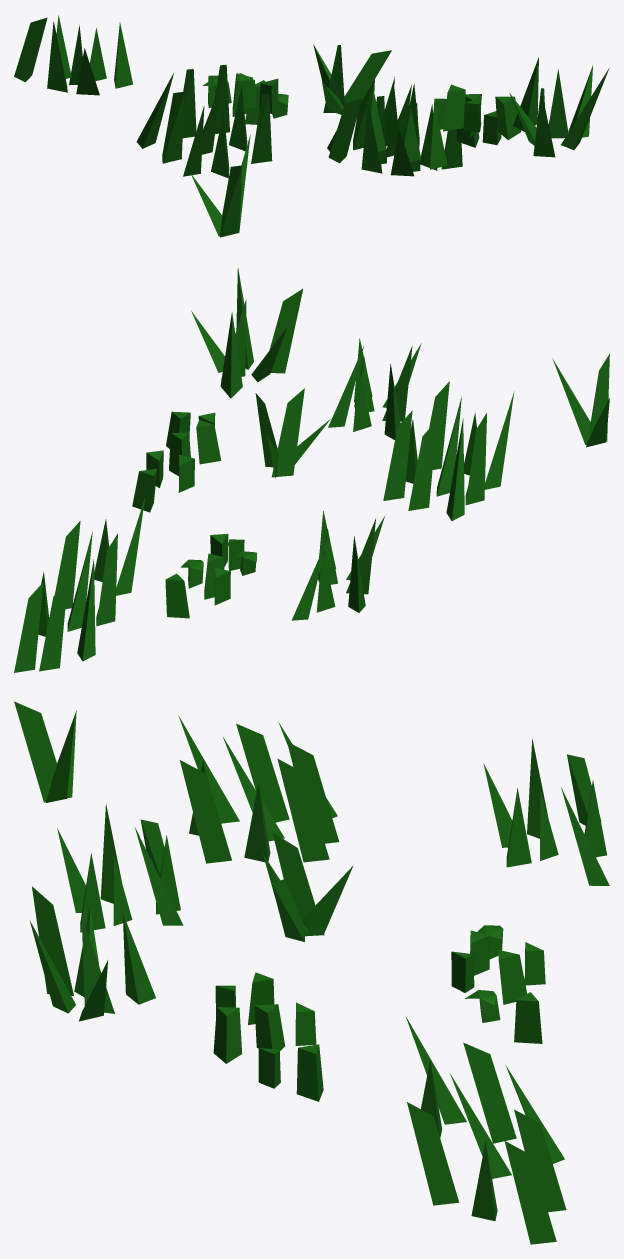
The model's file is GrassCronerDownWards.obj.
3 views of the same model, one above another, from view 1: azimuth 30°, elevation 25°; view 2: azimuth 150°, elevation 25°; view 3: azimuth 270°, elevation 25° (orthographic). The views are drawn at different scales.
Parts seen in each view (by area): view 1: GrassBunch1.001_Circle.000; view 2: GrassBunch1.001_Circle.000; view 3: GrassBunch1.001_Circle.000.
Boxes of the visible parts, x1,y1,x2,y2 form: GrassBunch1.001_Circle.000: (14,15,609,237); GrassBunch1.001_Circle.000: (14,268,609,672); GrassBunch1.001_Circle.000: (14,701,609,1244).
Bounding box in the file's own units: 0.8444 × 0.5052 × 0.8557.
